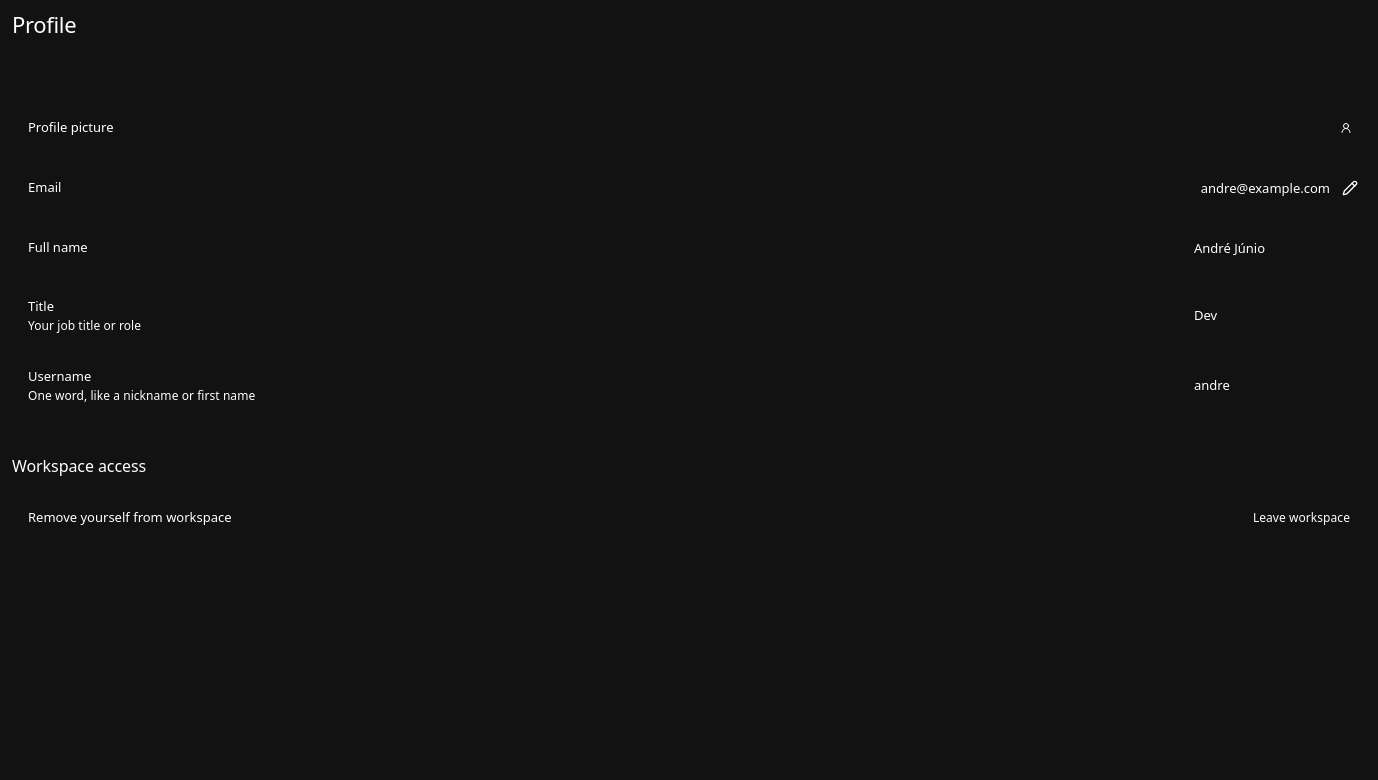
Test: ProfilePage › falha ao gravar: volta ao valor salvo e avisa com a mensagem da API
Replace the text in the field labelled "Username" with "taken". click: (1272, 385)
box: [1182,369,1362,401]
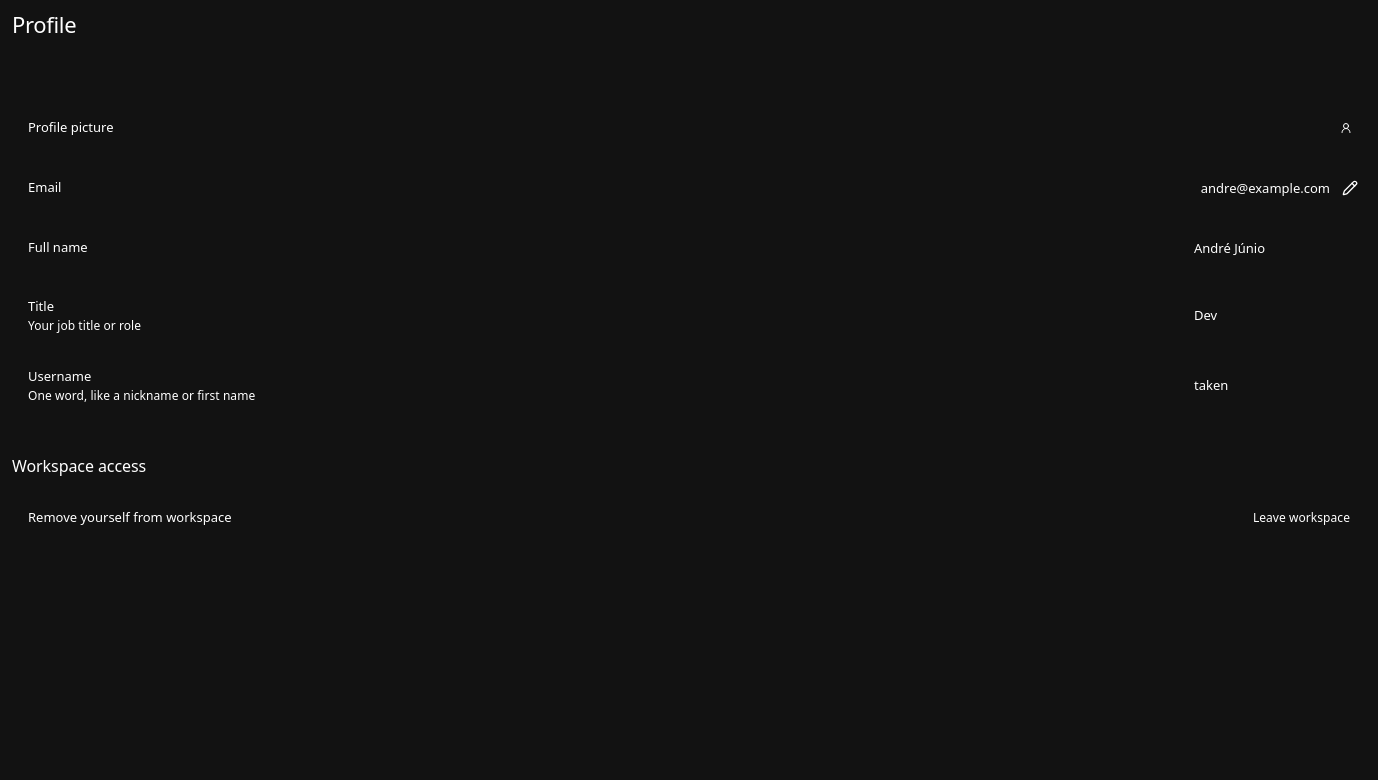
Press Tab
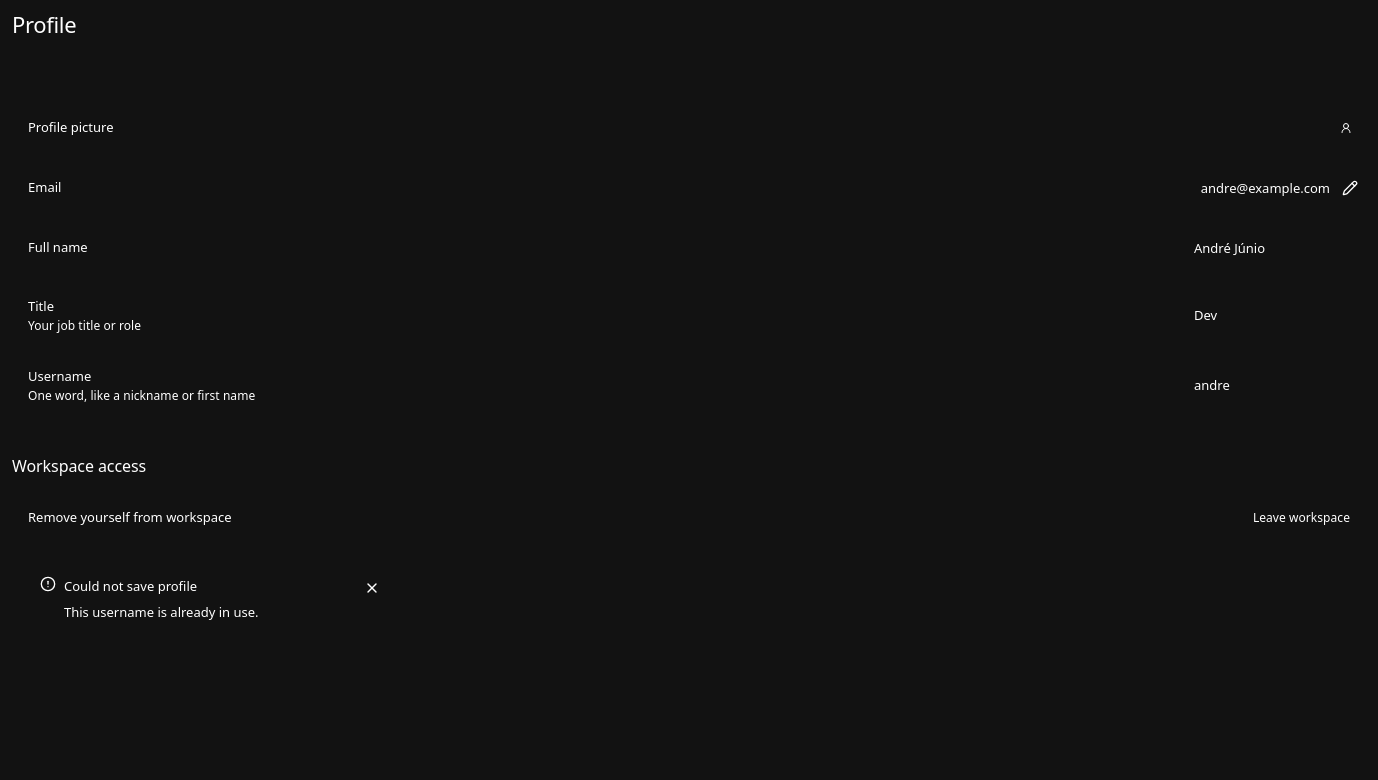
Result: the text "Could not save profile" is shown at [64,577,197,595]
Result: the field labelled "Username" holds "andre" at [1182,369,1362,401]
